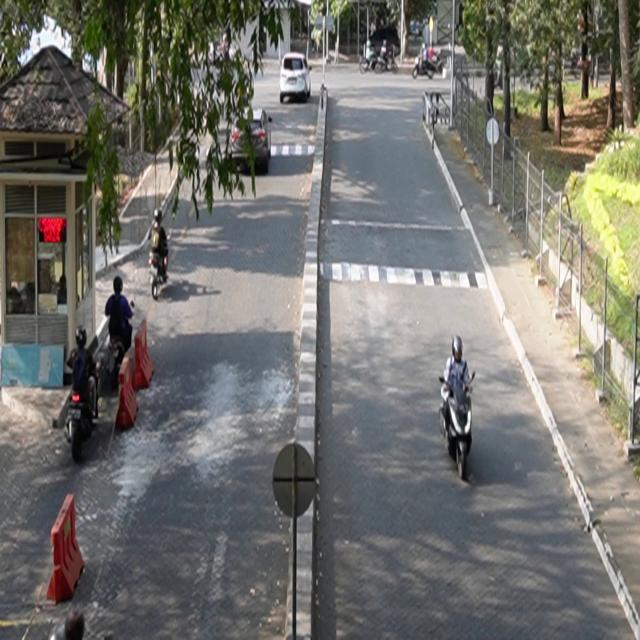car: (281, 53, 313, 104)
